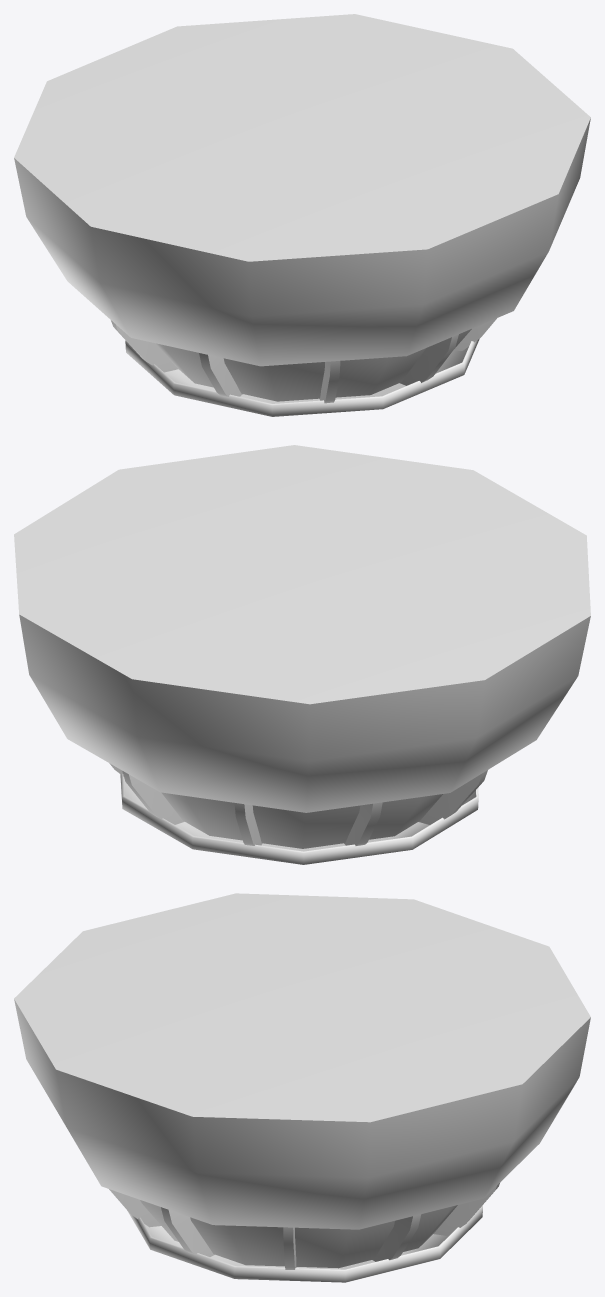
3 views of the same model, one above another, from view 1: azimuth 30°, elevation 25°; view 2: azimuth 150°, elevation 25°; view 3: azimuth 270°, elevation 25° (orthographic). The views are drawn at different scales.
Parts seen in each view (by area): view 1: HD; view 2: HD; view 3: HD.
Boxes of the visible parts, x1=… form: HD: x1=14, y1=14, x2=590, y2=416; HD: x1=14, y1=445, x2=590, y2=864; HD: x1=14, y1=893, x2=590, y2=1282.
Bounding box in the file's own units: 0.1026 × 0.0487 × 0.1053.
1 material, 1 textured.
